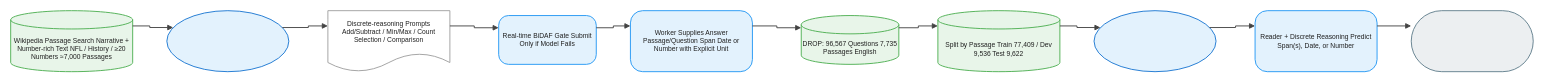
Some shapes in this 1545 by 83 pixel diagram are drawn without their labels. The box of each missing label's shape, as (x1, y1, x2, y2) in pixels:
AMT HIT 5 Random Passages Write ≥12 QA Pairs: (166, 10, 289, 72)
Dev / Test Validation ≥2 Additional Answers Remove 0.7% Invalid Cohen's κ = 0.74: (1093, 10, 1216, 72)
Normalized Exact Match Numeracy-aware Macro F1 Align Multi-spans; Max over Golds: (1411, 10, 1533, 72)
